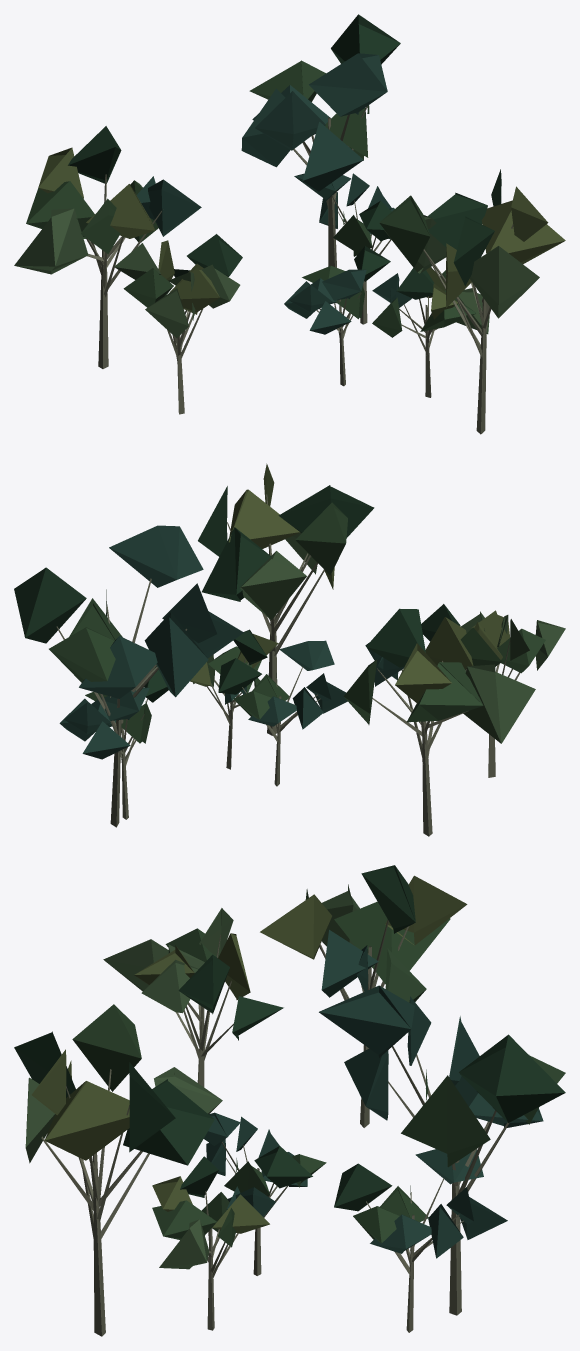
Rendered from forest_26_21.dae.
3 views of the same model, one above another, from view 1: azimuth 30°, elevation 25°; view 2: azimuth 150°, elevation 25°; view 3: azimuth 270°, elevation 25° (orthographic). The views are drawn at different scales.
Parts seen in each view (by area): view 1: Node; view 2: Node; view 3: Node.
Part boxes in pixels (x1=…): Node: x1=14, y1=14, x2=565, y2=434; Node: x1=14, y1=463, x2=565, y2=836; Node: x1=14, y1=865, x2=565, y2=1336.
Size of the model in its own units: 5.88 by 5.49 by 3.8.
